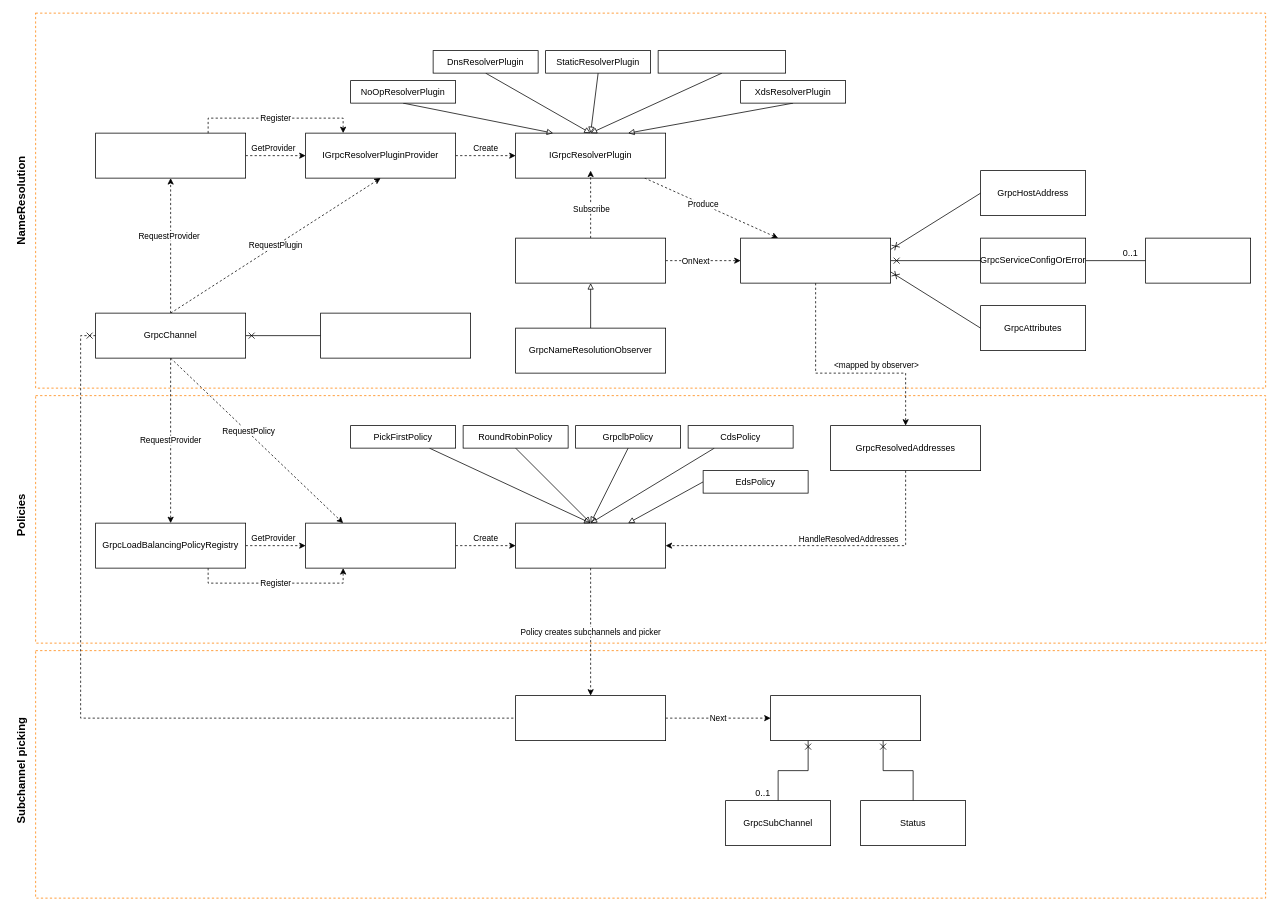
Some shapes in this 1279 by 911 pixel diagram are drawn without their labels. The box of each missing label's shape, as (x1, y1, x2, y2) in pixels:
DnsAdvancedResolverPlugin: (657, 50, 786, 73)
GrpcConnectivityStateManager: (320, 312, 471, 358)
GrpcNameResolutionResult: (740, 237, 891, 283)
GrpcPickResult: (770, 695, 921, 741)
GrpcResolverPluginRegistry: (95, 132, 246, 178)
GrpcServiceConfig: (1145, 237, 1251, 283)
IGrpcLoadBalancingPolicy: (515, 522, 666, 568)
IGrpcLoadBalancingPolicyProvider: (305, 522, 456, 568)
IGrpcNameResolutionObserver: (515, 237, 666, 283)
IGrpcSubChannelPicker: (515, 695, 666, 741)
